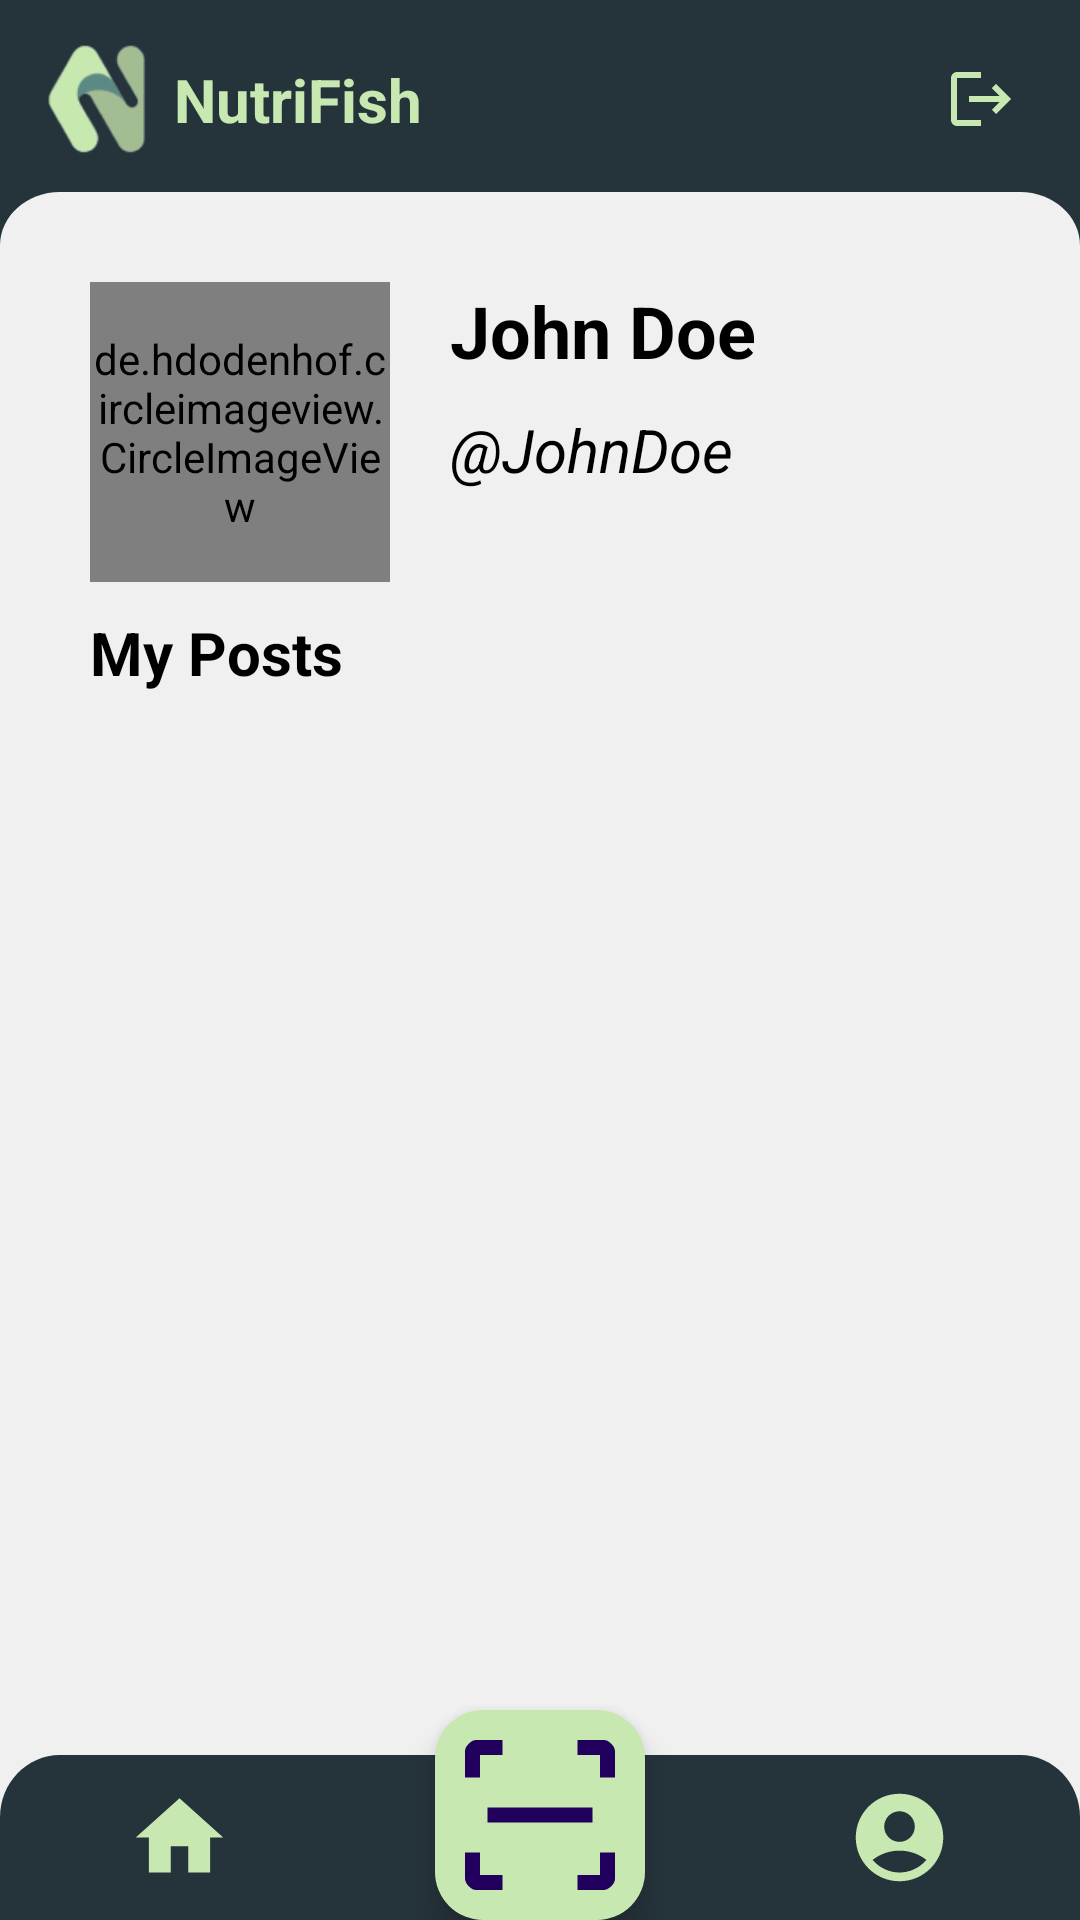

Point at icon controls on the screen. Image size 1080px×1920px, points as point (x, y).
Analyze button: point (540, 1815)
